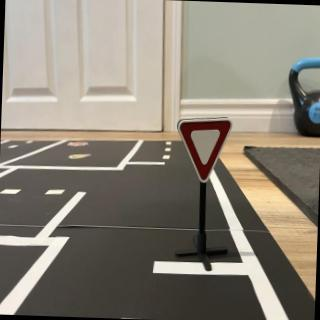sign_yield: (177, 118, 234, 184)
